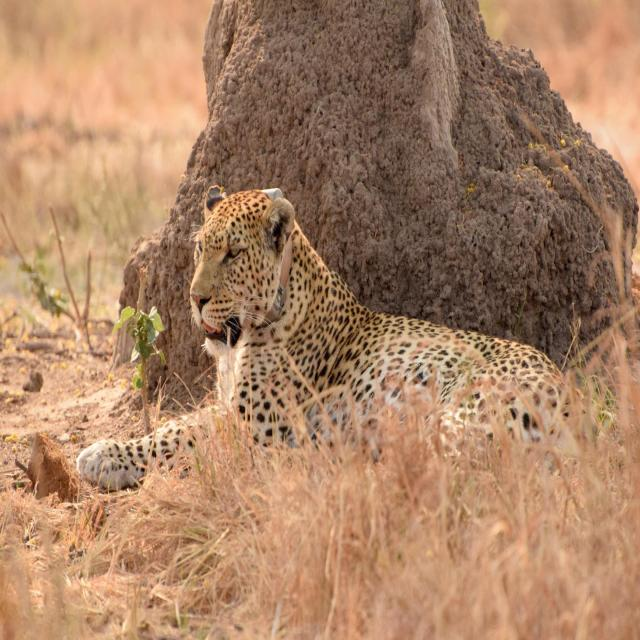Leopard: (95, 189, 625, 482)
